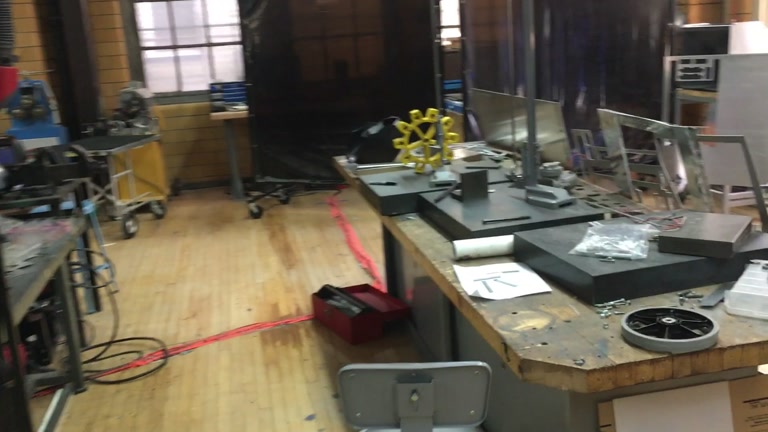gear: (391, 108, 458, 175)
